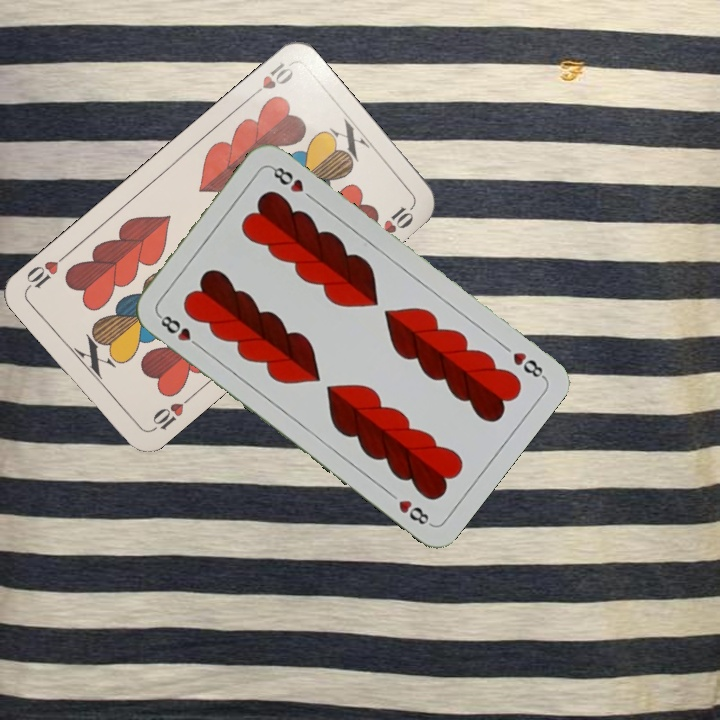H10: (244, 58, 296, 102), (146, 391, 195, 435)
H8: (497, 339, 548, 381), (154, 310, 204, 351)
